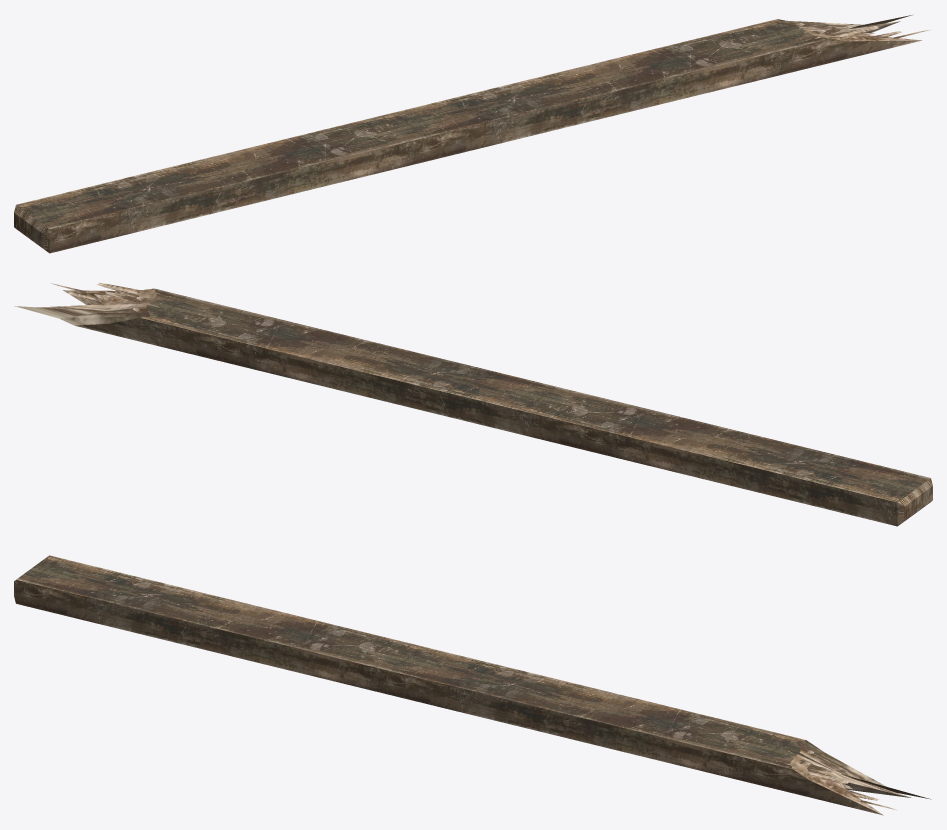
The picture shows the model from 3 angles, top to bottom: view 1: azimuth 30°, elevation 25°; view 2: azimuth 150°, elevation 25°; view 3: azimuth 330°, elevation 25°; orthographic projection.
Parts seen in each view (by area): view 1: SM_SaradominTemple_Roof_Plank_01_v1_LOD0; view 2: SM_SaradominTemple_Roof_Plank_01_v1_LOD0; view 3: SM_SaradominTemple_Roof_Plank_01_v1_LOD0.
Part boxes in pixels (x1,y1,x2,y2): SM_SaradominTemple_Roof_Plank_01_v1_LOD0: [14, 14, 931, 253]; SM_SaradominTemple_Roof_Plank_01_v1_LOD0: [14, 282, 932, 526]; SM_SaradominTemple_Roof_Plank_01_v1_LOD0: [14, 555, 930, 815].
Bounding box in the file's own units: 7.92 × 0.2031 × 0.514.
1 material, 1 textured.
